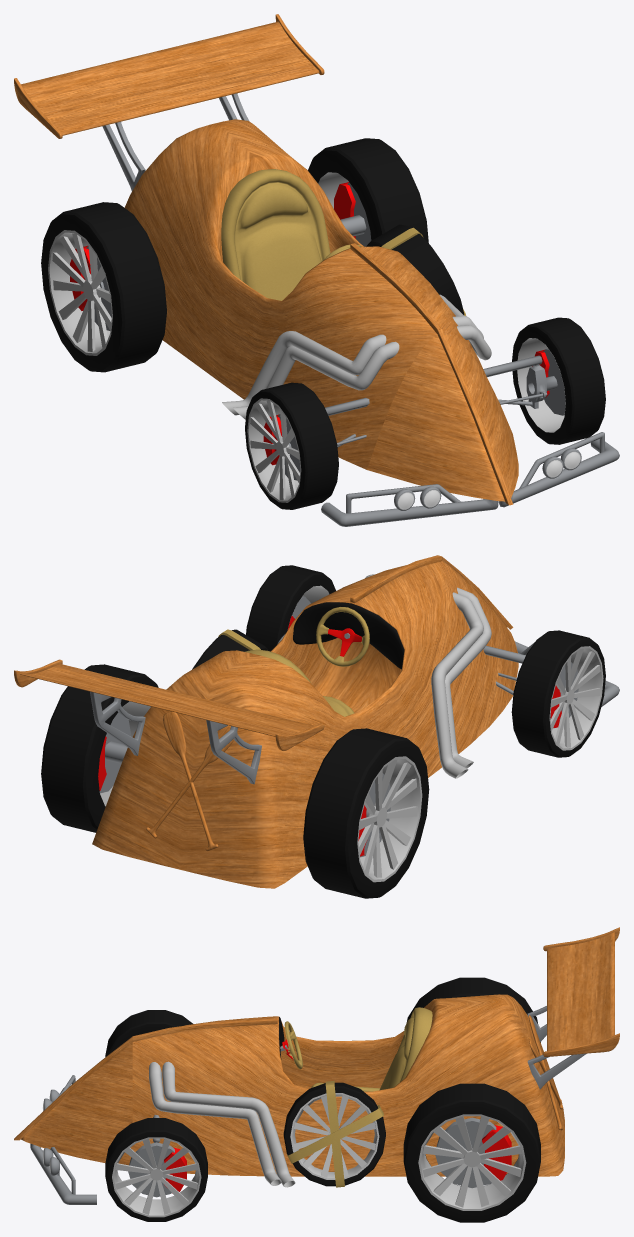
File: Sangkuriang.fbx
The picture shows the model from 3 angles, top to bottom: view 1: azimuth 30°, elevation 25°; view 2: azimuth 150°, elevation 25°; view 3: azimuth 270°, elevation 25°; orthographic projection. The views are drawn at different scales.
Parts seen in each view (by area): view 1: base, Wheel_R.004, Wheel_FL.004, Wheel_FL.001, Suspensi_FL; view 2: base, Wheel_R.004, Wheel_FL.004, Wheel_FL.001, wheel_Steer; view 3: base, Wheel_R.004, Wheel_FL.001, Wheel_FL.004, wheel_Steer, Suspensi_FL.
Part boxes in pixels (bbox=[...]): base: bbox=[14, 14, 619, 526]; Wheel_R.004: bbox=[41, 138, 428, 372]; Wheel_FL.004: bbox=[245, 382, 338, 509]; Wheel_FL.001: bbox=[512, 317, 605, 444]; Suspensi_FL: bbox=[526, 349, 557, 408]; base: bbox=[14, 555, 619, 888]; Wheel_R.004: bbox=[41, 664, 429, 898]; Wheel_FL.004: bbox=[511, 630, 605, 757]; Wheel_FL.001: bbox=[246, 565, 335, 651]; wheel_Steer: bbox=[316, 607, 369, 666]; base: bbox=[14, 927, 619, 1204]; Wheel_R.004: bbox=[403, 977, 540, 1222]; Wheel_FL.001: bbox=[105, 1118, 207, 1221]; Wheel_FL.004: bbox=[105, 1010, 192, 1056]; wheel_Steer: bbox=[282, 1021, 302, 1069]; Suspensi_FL: bbox=[164, 1147, 186, 1193].
Bounding box in the file's own units: 131 × 88.67 × 269.
